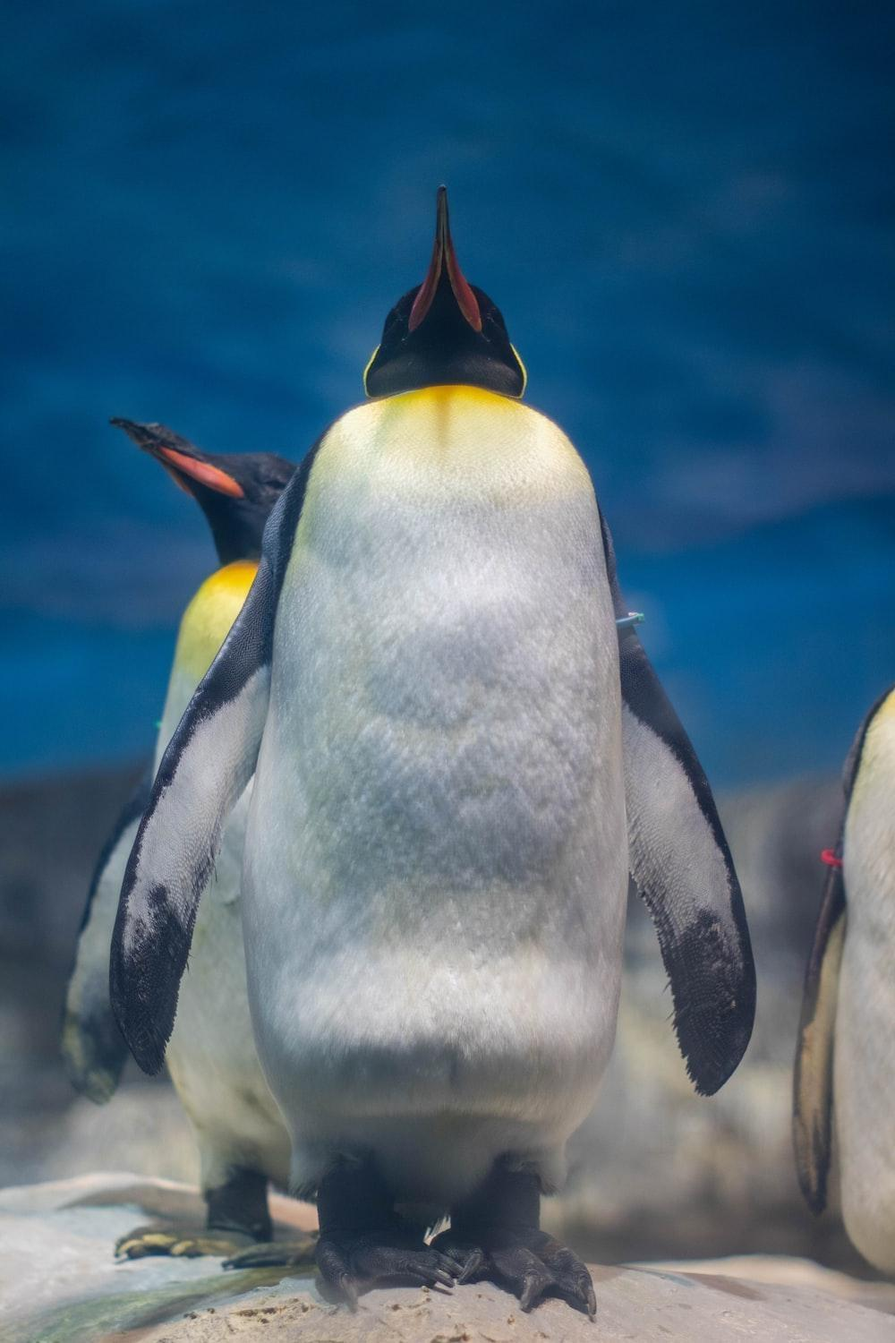Penguin: (111, 192, 753, 1313), (58, 412, 320, 1266), (788, 686, 891, 1274)
